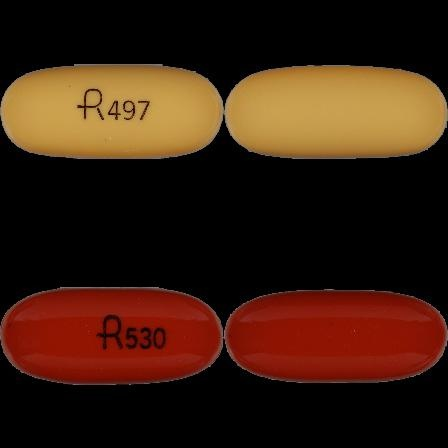0228-2497: (0, 0, 224, 224)
